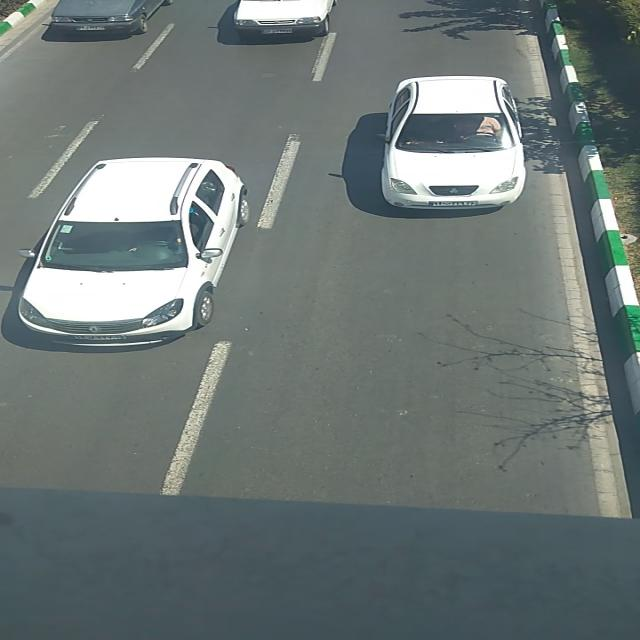car: (18, 158, 252, 346), (378, 76, 524, 210), (49, 1, 174, 34), (232, 1, 340, 39)
